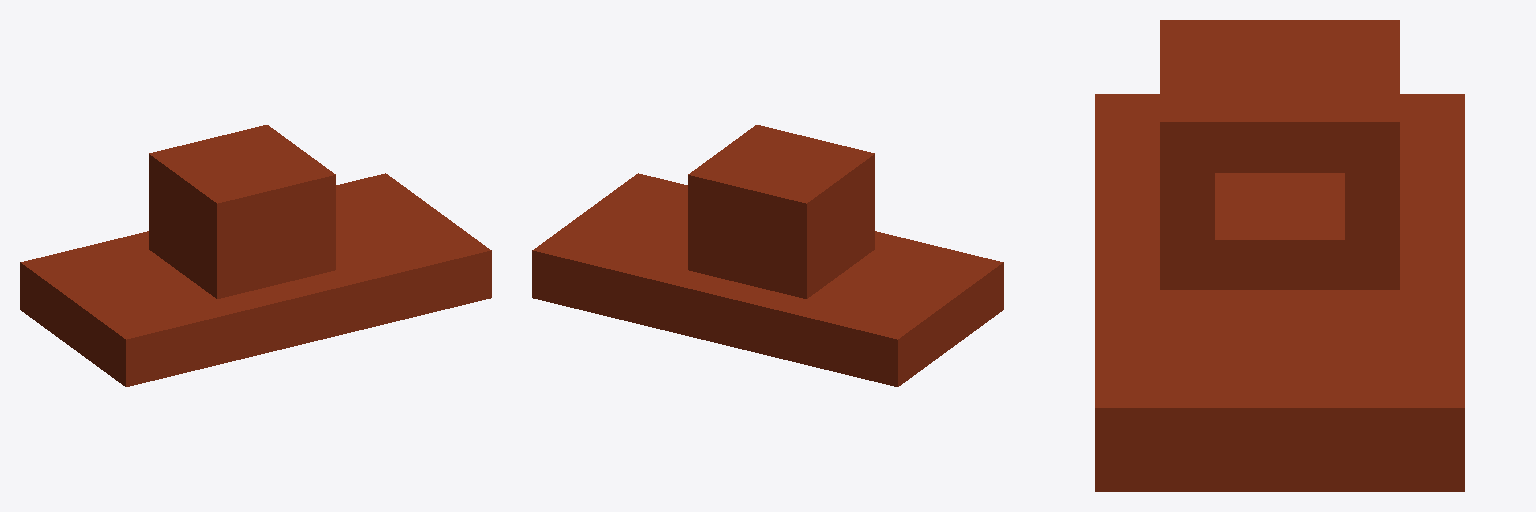
The robot description file, URDF, robot "square_hole":
<robot name="square_hole">

  <link name="base">
    <visual>
      <geometry>
        <box size="1 0.7 0.3"/>
      </geometry>
      <material name="white">
        <color rgba="0.6 0.251 0.137 1"/>
      </material>
    </visual>
    <collision>
      <geometry>
        <box size="1 0.7 0.3"/>
      </geometry>
    </collision>
    <inertial>
      <mass value="10"/>
      <inertia ixx="0.4" ixy="0.0" ixz="0.0" iyy="0.4" iyz="0.0" izz="0.2"/>
    </inertial>
    <contact>
      <lateral_friction value="1.0"/>
      <rolling_friction value="0.0"/>
      <contact_cfm value="0.0"/>
      <contact_erp value="1.0"/>
    </contact>
  </link>

  <link name="side1">
    <visual>
      <geometry>
        <box size="1 0.3 1"/>
      </geometry>
      <origin rpy="0 0 0" xyz="0 0.15 0.35"/>
      <material name="white">
        <color rgba="0.6 0.251 0.137 1"/>
      </material>
    </visual>
    <collision>
      <geometry>
        <box size="1 0.3 1"/>
      </geometry>
      <origin rpy="0 0 0" xyz="0 0.15 0.35"/>
    </collision>
    <inertial>
      <mass value="10"/>
      <inertia ixx="0.4" ixy="0.0" ixz="0.0" iyy="0.4" iyz="0.0" izz="0.2"/>
    </inertial>
    <contact>
      <lateral_friction value="1.0"/>
      <rolling_friction value="0.0"/>
      <contact_cfm value="0.0"/>
      <contact_erp value="1.0"/>
    </contact>
  </link>

  <link name="side2">
    <visual>
      <geometry>
        <box size="1 0.3 1"/>
      </geometry>
      <origin rpy="0 0 0" xyz="0 -0.15 0.35"/>
      <material name="white">
        <color rgba="0.6 0.251 0.137 1"/>
      </material>
    </visual>
    <collision>
      <geometry>
        <box size="1 0.3 1"/>
      </geometry>
      <origin rpy="0 0 0" xyz="0 -0.15 0.35"/>
    </collision>
    <inertial>
      <mass value="10"/>
      <inertia ixx="0.4" ixy="0.0" ixz="0.0" iyy="0.4" iyz="0.0" izz="0.2"/>
    </inertial>
    <contact>
      <lateral_friction value="1.0"/>
      <rolling_friction value="0.0"/>
      <contact_cfm value="0.0"/>
      <contact_erp value="1.0"/>
    </contact>
  </link>

  <link name="top">
    <visual>
      <geometry>
        <box size="1 0.7 0.3"/>
      </geometry>
      <origin rpy="0 0 0" xyz="0 0 0.7"/>
      <material name="white">
        <color rgba="0.6 0.251 0.137 1"/>
      </material>
    </visual>
    <collision>
      <geometry>
        <box size="1 0.7 0.3"/>
      </geometry>
      <origin rpy="0 0 0" xyz="0 0 0.7"/>
    </collision>
    <inertial>
      <mass value="10"/>
      <inertia ixx="0.4" ixy="0.0" ixz="0.0" iyy="0.4" iyz="0.0" izz="0.2"/>
    </inertial>
    <contact>
      <lateral_friction value="1.0"/>
      <rolling_friction value="0.0"/>
      <contact_cfm value="0.0"/>
      <contact_erp value="1.0"/>
    </contact>
  </link>

  <link name="back">
    <visual>
      <geometry>
        <box size="0.3 1.3 1"/>
      </geometry>
      <origin rpy="0 0 0" xyz="0 0 0.35"/>
      <material name="white">
        <color rgba="0.6 0.251 0.137 1"/>
      </material>
    </visual>
    <collision>
      <geometry>
        <box size="0.3 1.3 1"/>
      </geometry>
      <origin rpy="0 0 0" xyz="0 0 0.35"/>
    </collision>
    <inertial>
      <mass value="10"/>
      <inertia ixx="0.4" ixy="0.0" ixz="0.0" iyy="0.4" iyz="0.0" izz="0.2"/>
    </inertial>
    <contact>
      <lateral_friction value="1.0"/>
      <rolling_friction value="0.0"/>
      <contact_cfm value="0.0"/>
      <contact_erp value="1.0"/>
    </contact>
  </link>

  <link name="table">
    <visual>
      <geometry>
        <box size="4 2 0.5"/>
      </geometry>
      <origin rpy="0 0 0" xyz="0 0 -0.25"/>
      <material name="white">
        <color rgba="0.6 0.251 0.137 1"/>
      </material>
    </visual>
    <collision>
      <geometry>
        <box size="4 2 0.5"/>
      </geometry>
      <origin rpy="0 0 0" xyz="0 0 -0.25"/>
    </collision>
    <inertial>
      <mass value="10"/>
      <inertia ixx="0.4" ixy="0.0" ixz="0.0" iyy="0.4" iyz="0.0" izz="0.2"/>
    </inertial>
    <contact>
      <lateral_friction value="1.0"/>
      <rolling_friction value="0.0"/>
      <contact_cfm value="0.0"/>
      <contact_erp value="1.0"/>
    </contact>
  </link>

  <joint name="base_to_right" type="fixed">
    <parent link="base"/>
    <child link="side1"/>
    <origin xyz="0 0.35 0"/>
  </joint>

  <joint name="base_to_left" type="fixed">
    <parent link="base"/>
    <child link="side2"/>
    <origin xyz="0 -0.35 0"/>
  </joint>

  <joint name="base_to_top" type="fixed">
    <parent link="base"/>
    <child link="top"/>
    <origin xyz="0 0 0"/>
  </joint>

  <joint name="base_to_back" type="fixed">
    <parent link="base"/>
    <child link="back"/>
    <origin xyz="-0.65 0 0"/>
  </joint>

  <joint name="base_to_table" type="fixed">
    <parent link="base"/>
    <child link="table"/>
    <origin xyz="0 0 -0.15"/>
  </joint>  

</robot>

--- What the picture shows (computed from the rendered views, not written in the file) ---
The picture shows the robot from 3 angles, left to right: view 1: azimuth 30°, elevation 25°; view 2: azimuth 150°, elevation 25°; view 3: azimuth 270°, elevation 25°; orthographic projection.
Robot: square_hole — 6 links, 5 joints (5 fixed); root link base; default pose: every joint at zero.
Visible links, largest first — view 1: table, back, side2, top, side1; view 2: table, back, side1, top, side2; view 3: table, top, base, side1, side2, back.
Link boxes in pixels (x1=…): table: x1=20, y1=173, x2=491, y2=386; back: x1=149, y1=147, x2=244, y2=298; side2: x1=229, y1=163, x2=335, y2=291; top: x1=192, y1=136, x2=318, y2=184; side1: x1=177, y1=125, x2=281, y2=157; table: x1=532, y1=173, x2=1003, y2=386; back: x1=779, y1=147, x2=874, y2=298; side1: x1=688, y1=163, x2=794, y2=291; top: x1=705, y1=136, x2=831, y2=184; side2: x1=742, y1=125, x2=846, y2=157; table: x1=1095, y1=94, x2=1464, y2=491; top: x1=1215, y1=44, x2=1344, y2=172; base: x1=1215, y1=173, x2=1344, y2=289; side1: x1=1345, y1=44, x2=1399, y2=289; side2: x1=1160, y1=44, x2=1214, y2=289; back: x1=1160, y1=20, x2=1399, y2=43.
Bounding box of the posed robot: 4 × 2 × 1.5 m (x, y, z).
Geometry: primitives only (box / cylinder / sphere), no mesh files.